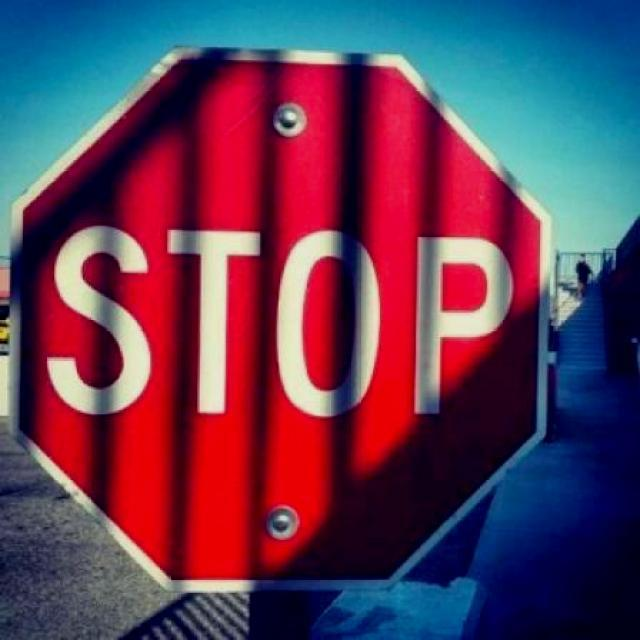stop_sign: (19, 45, 548, 600)
